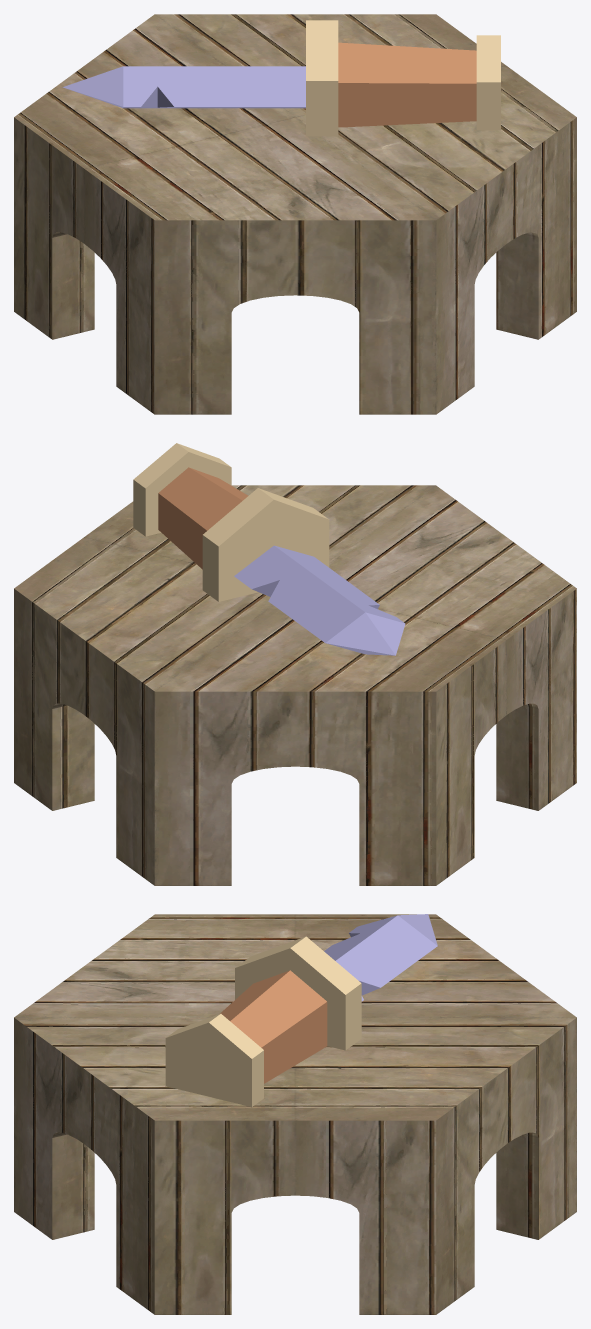
The model's file is HunterTable.fbx.
3 renders of one model, top to bottom at view 1: azimuth 30°, elevation 25°; view 2: azimuth 150°, elevation 25°; view 3: azimuth 270°, elevation 25°, orthographic.
Visible parts, largest first — view 1: mergedBlocks; view 2: mergedBlocks; view 3: mergedBlocks.
Part boxes in pixels (x1=…): mergedBlocks: x1=14, y1=14, x2=576, y2=414; mergedBlocks: x1=14, y1=443, x2=576, y2=885; mergedBlocks: x1=14, y1=914, x2=576, y2=1314.
Size of the model in its own units: 10 by 6.41 by 11.55.
Materials: 4 (1 with a texture image).
